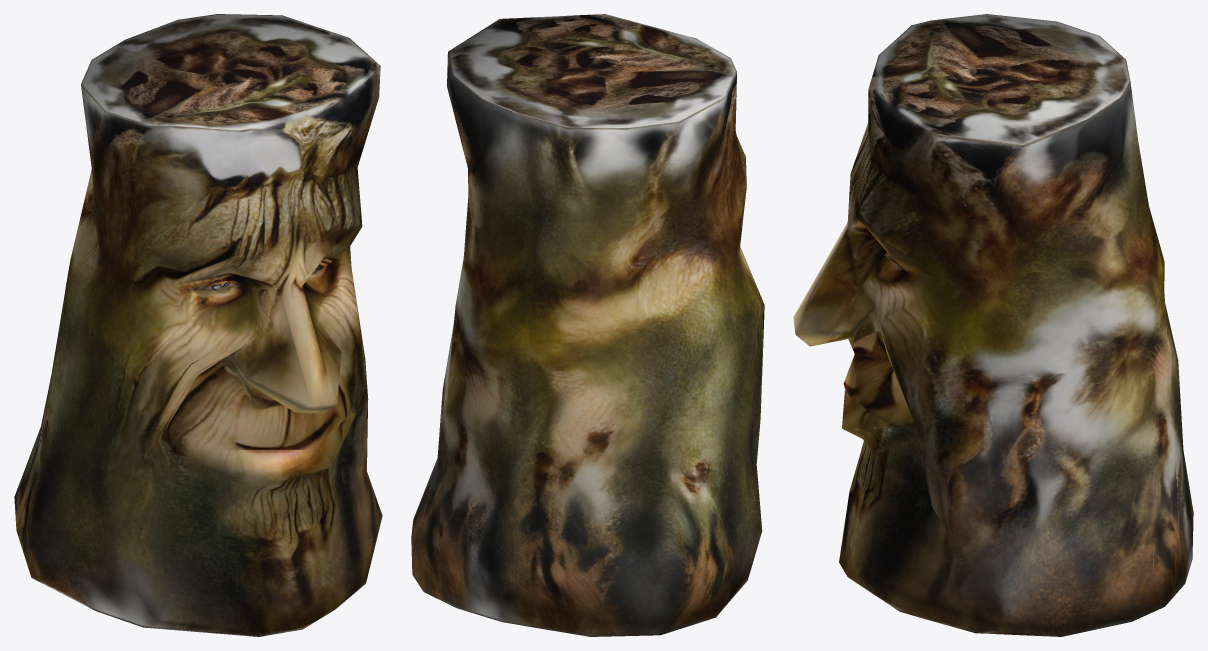
The model's file is wisetree_0401081255_texture.fbx.
The picture shows the model from 3 angles, left to right: view 1: azimuth 30°, elevation 25°; view 2: azimuth 150°, elevation 25°; view 3: azimuth 270°, elevation 25°; orthographic projection.
Parts seen in each view (by area): view 1: dub; view 2: dub; view 3: dub.
Boxes of the visible parts, x1=… form: dub: x1=14, y1=14, x2=382, y2=636; dub: x1=411, y1=14, x2=764, y2=636; dub: x1=793, y1=14, x2=1193, y2=636.
Bounding box in the file's own units: 134 × 200 × 144.
1 material, 1 textured.
